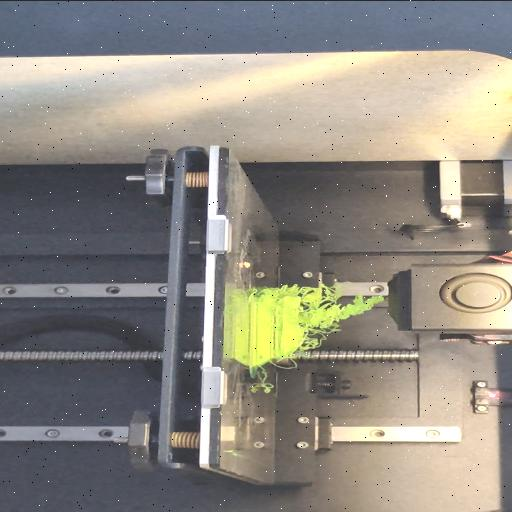spaghetti: (295, 280, 386, 352), (252, 284, 298, 299), (268, 357, 298, 369), (261, 370, 274, 396)
